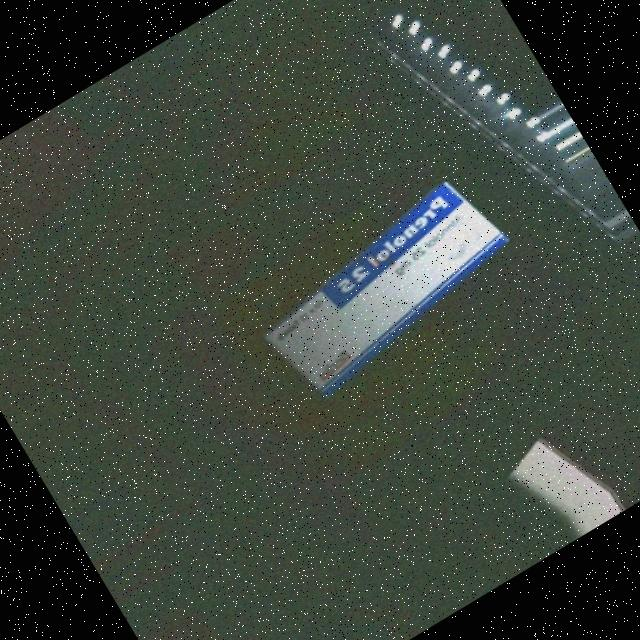prenolol: (243, 164, 531, 404)
